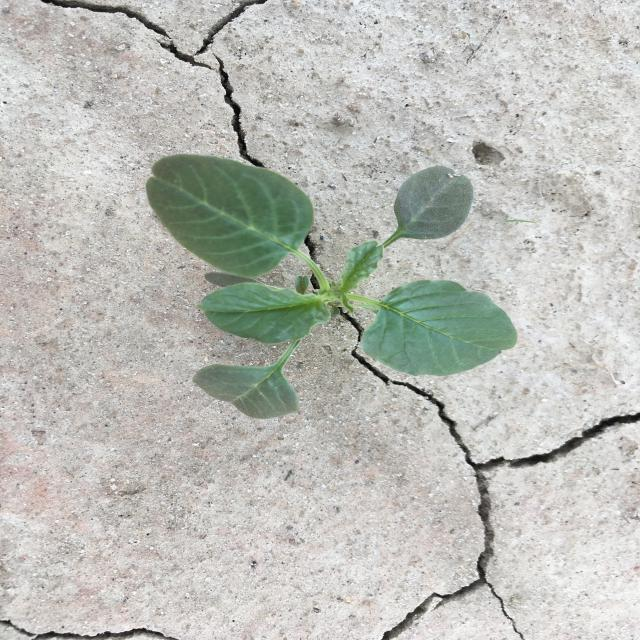PalmerAmaranth: (146, 154, 517, 419)
